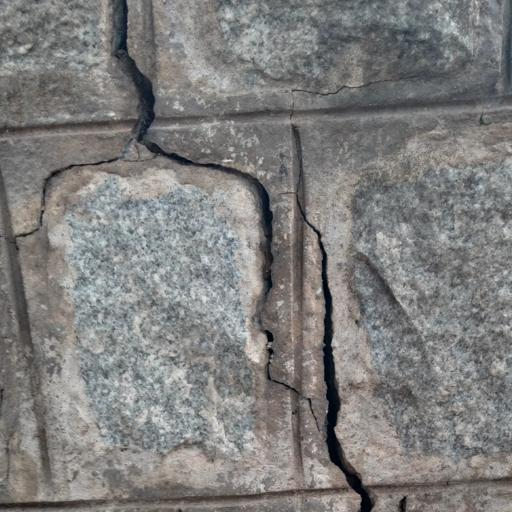major_crack: (7, 0, 389, 512)
